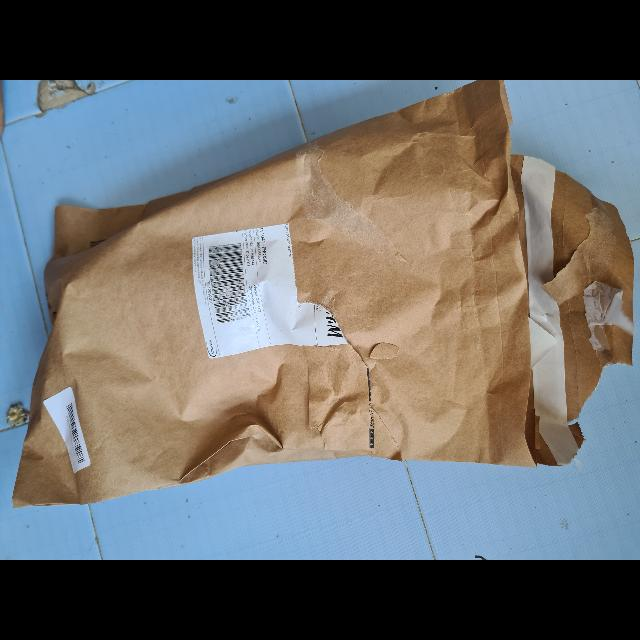trash: (12, 80, 632, 508), (512, 153, 634, 465), (190, 222, 348, 358)
